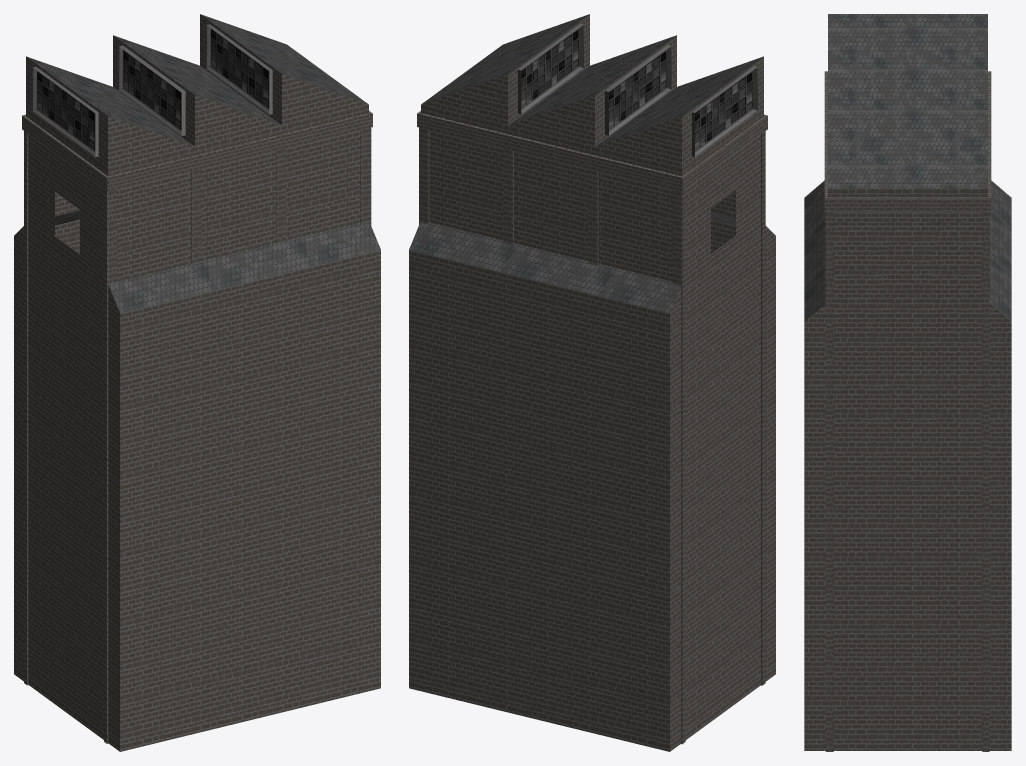
Rendered from factory_goontutorial_building.fbx.
3 renders of one model, left to right at view 1: azimuth 30°, elevation 25°; view 2: azimuth 150°, elevation 25°; view 3: azimuth 270°, elevation 25°, orthographic. The views are drawn at different scales.
Visible parts, largest first — view 1: Building; view 2: Building; view 3: Building.
Boxes of the visible parts, x1,y1,x2,y2 form: Building: [14, 14, 380, 751]; Building: [409, 14, 775, 751]; Building: [804, 14, 1011, 751].
Bounding box in the file's own units: 2822 × 6342 × 1946.
